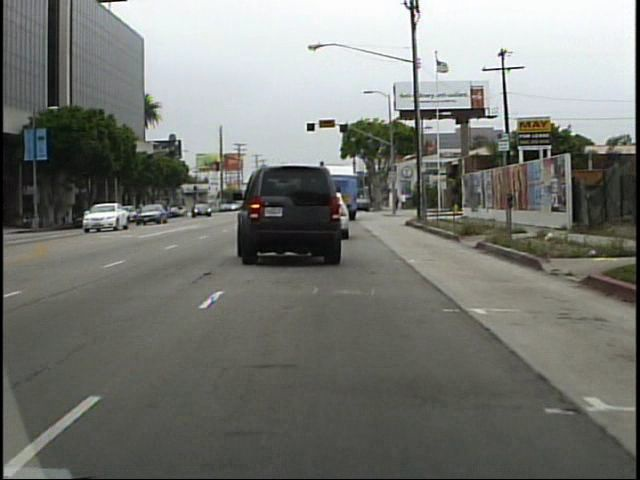person: (400, 189, 409, 212), (393, 189, 401, 214)
